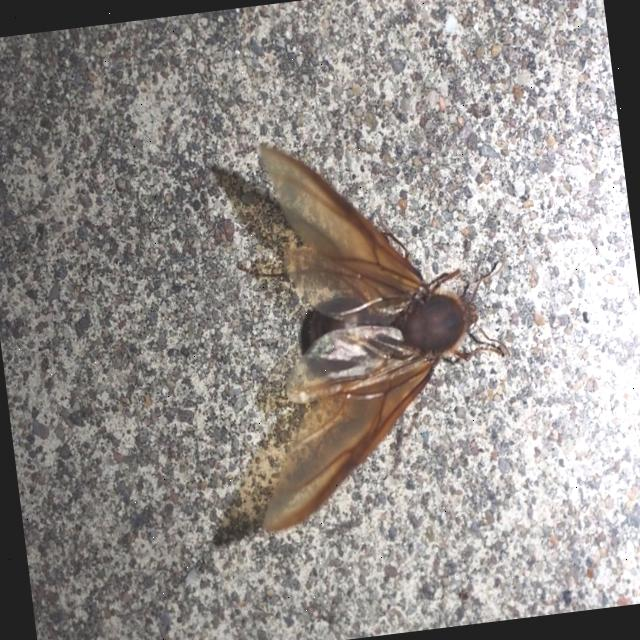Alive-Male-Alate: (216, 116, 533, 534)
